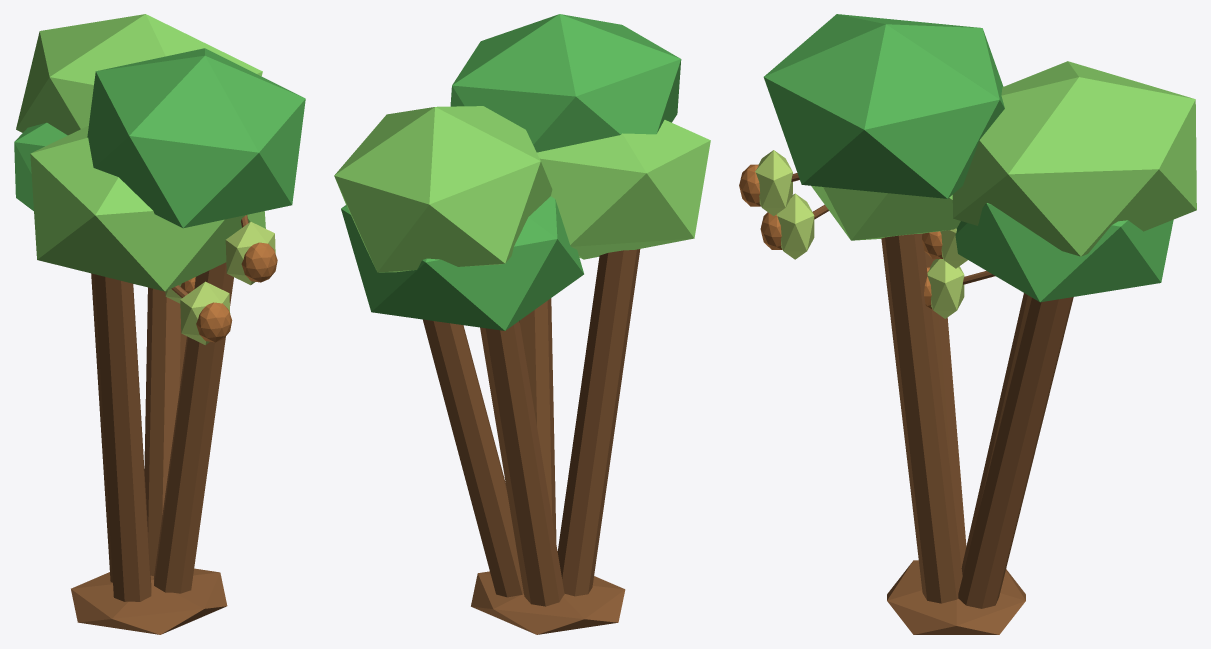
The model's file is Hazelnut.glb.
3 views of the same model, side by side, from view 1: azimuth 30°, elevation 25°; view 2: azimuth 150°, elevation 25°; view 3: azimuth 270°, elevation 25° (orthographic). The views are drawn at different scales.
Parts seen in each view (by area): view 1: FTF_Plant_Hazelnut_Tree_Mature_Mesh; view 2: FTF_Plant_Hazelnut_Tree_Mature_Mesh; view 3: FTF_Plant_Hazelnut_Tree_Mature_Mesh.
Part boxes in pixels (bbox=[...]): FTF_Plant_Hazelnut_Tree_Mature_Mesh: bbox=[14, 14, 305, 634]; FTF_Plant_Hazelnut_Tree_Mature_Mesh: bbox=[334, 14, 710, 634]; FTF_Plant_Hazelnut_Tree_Mature_Mesh: bbox=[739, 14, 1196, 634].
Bounding box in the file's own units: 1.16 × 2.36 × 1.62.
